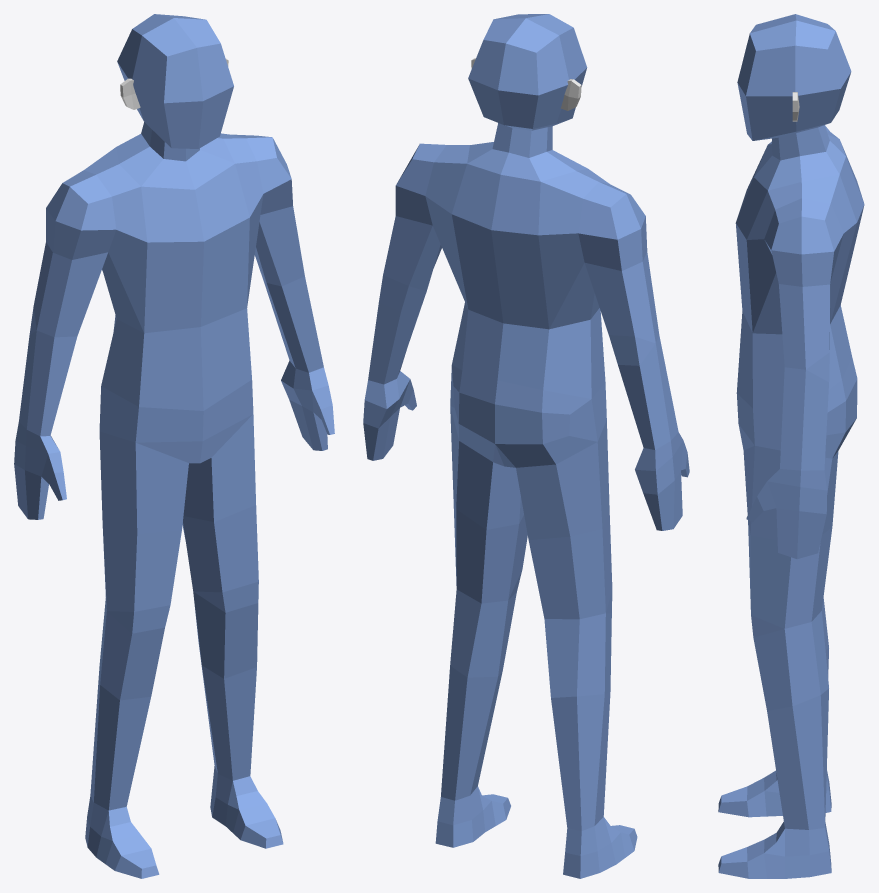
Rendered from Male Adult Base Body.fbx.
3 renders of one model, left to right at view 1: azimuth 30°, elevation 25°; view 2: azimuth 150°, elevation 25°; view 3: azimuth 270°, elevation 25°, orthographic.
Parts seen in each view (by area): view 1: NPC Male Base Body; view 2: NPC Male Base Body; view 3: NPC Male Base Body.
Part boxes in pixels (left/top/right/bottom): NPC Male Base Body: left=14, top=14, right=334, bottom=878; NPC Male Base Body: left=363, top=14, right=689, bottom=878; NPC Male Base Body: left=718, top=14, right=864, bottom=878.
Bounding box in the file's own units: 68.96 × 182 × 29.46.
